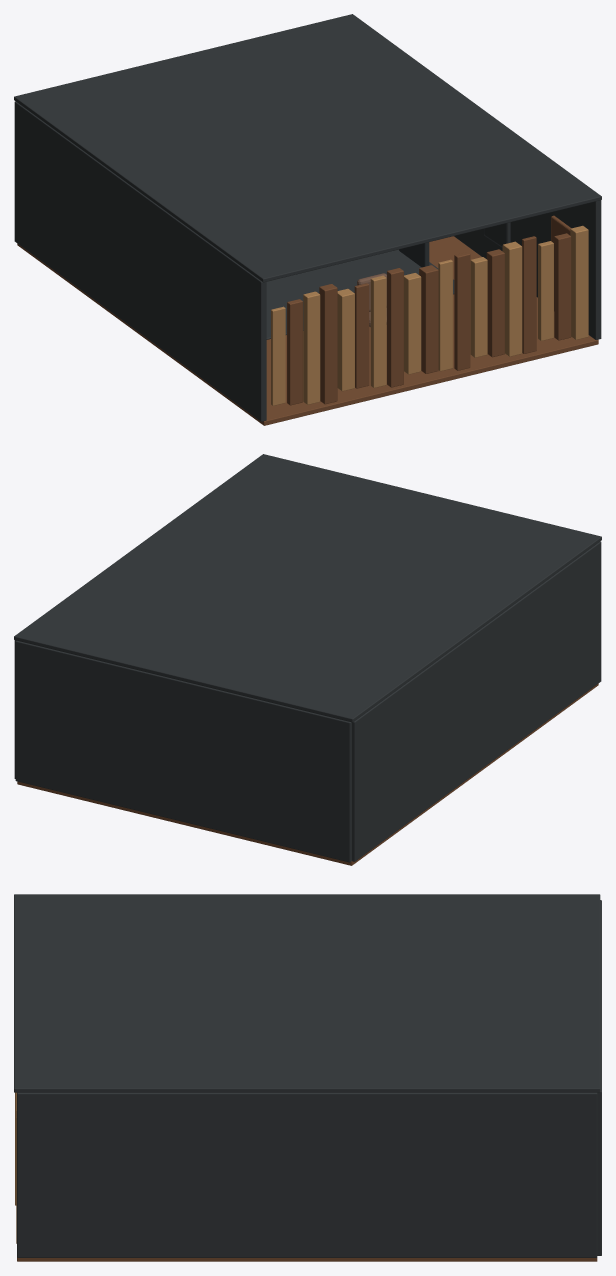
The model's file is mix_room_001.glb.
3 views of the same model, one above another, from view 1: azimuth 30°, elevation 25°; view 2: azimuth 150°, elevation 25°; view 3: azimuth 270°, elevation 25° (orthographic). The views are drawn at different scales.
Parts seen in each view (by area): view 1: ceiling, left_acoustic_treatment, wood_floor, right_acoustic_treatment, mix_room_rug, rear_diffuser_04, rear_diffuser_15, rear_diffuser_19, rear_diffuser_08, rear_diffuser_03, rear_diffuser_12, rear_diffuser_10 (+12 smaller); view 2: ceiling, front_acoustic_wall, left_acoustic_treatment, wood_floor; view 3: ceiling, right_acoustic_treatment, wood_floor, front_acoustic_wall.
Boxes of the visible parts, box(x1,y1,x2,y2) form: ceiling: box(14, 14, 601, 282); left_acoustic_treatment: box(14, 101, 266, 421); wood_floor: box(17, 236, 598, 425); right_acoustic_treatment: box(454, 200, 601, 339); mix_room_rug: box(266, 249, 454, 339); rear_diffuser_04: box(319, 284, 337, 404); rear_diffuser_15: box(502, 241, 522, 356); rear_diffuser_19: box(570, 225, 588, 339); rear_diffuser_08: box(387, 268, 403, 387); rear_diffuser_03: box(303, 291, 320, 404); rear_diffuser_12: box(454, 252, 470, 370); rear_diffuser_10: box(419, 265, 438, 373); ceiling: box(14, 454, 601, 722); front_acoustic_wall: box(15, 640, 351, 862); left_acoustic_treatment: box(352, 541, 601, 861); wood_floor: box(17, 683, 598, 865); ceiling: box(14, 894, 600, 1092); right_acoustic_treatment: box(17, 1092, 597, 1257); wood_floor: box(17, 1257, 597, 1261); front_acoustic_wall: box(597, 900, 601, 1255).
Bounding box in the file's own units: 9.16 × 4.01 × 11.65.
